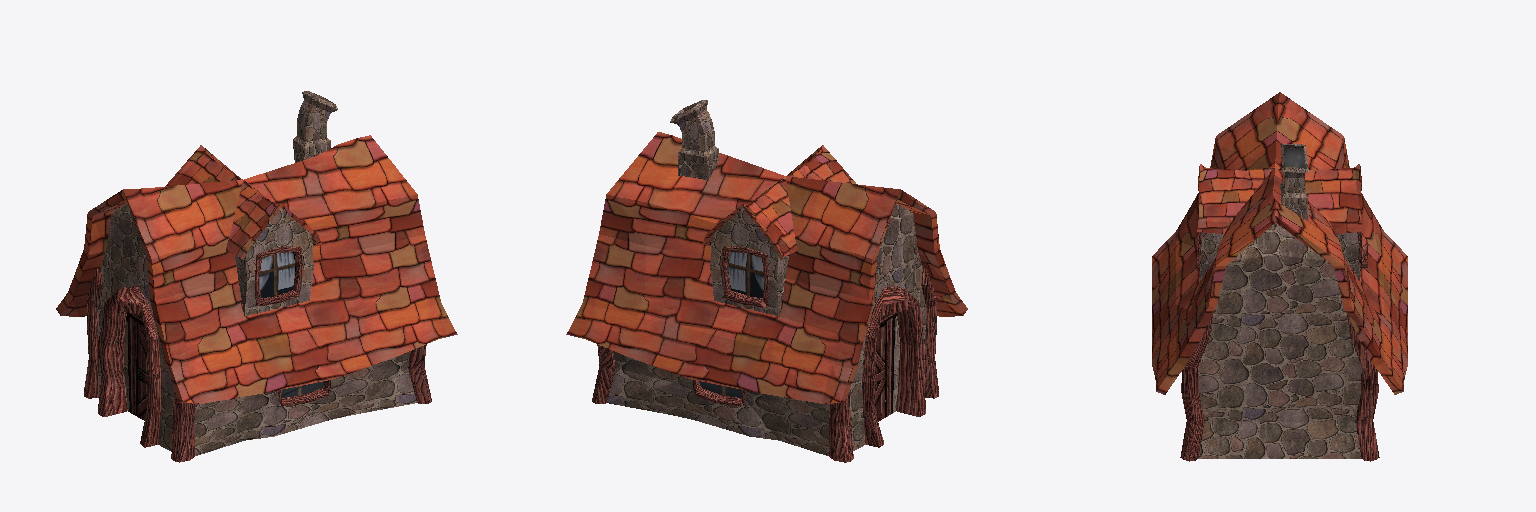
The picture shows the model from 3 angles: view 1: azimuth 30°, elevation 25°; view 2: azimuth 150°, elevation 25°; view 3: azimuth 270°, elevation 25°; orthographic projection.
Parts seen in each view (by area): view 1: Form1, Form8; view 2: Form1, Form8; view 3: Form1, Form8.
Boxes of the visible parts, x1,y1,x2,y2 form: Form1: [56, 135, 457, 462]; Form8: [293, 91, 337, 162]; Form1: [566, 132, 967, 462]; Form8: [670, 100, 718, 180]; Form1: [1152, 92, 1407, 461]; Form8: [1280, 144, 1308, 220].
Size of the model in its own units: 10.47 by 10.17 by 8.28.
8 materials, 7 textured.